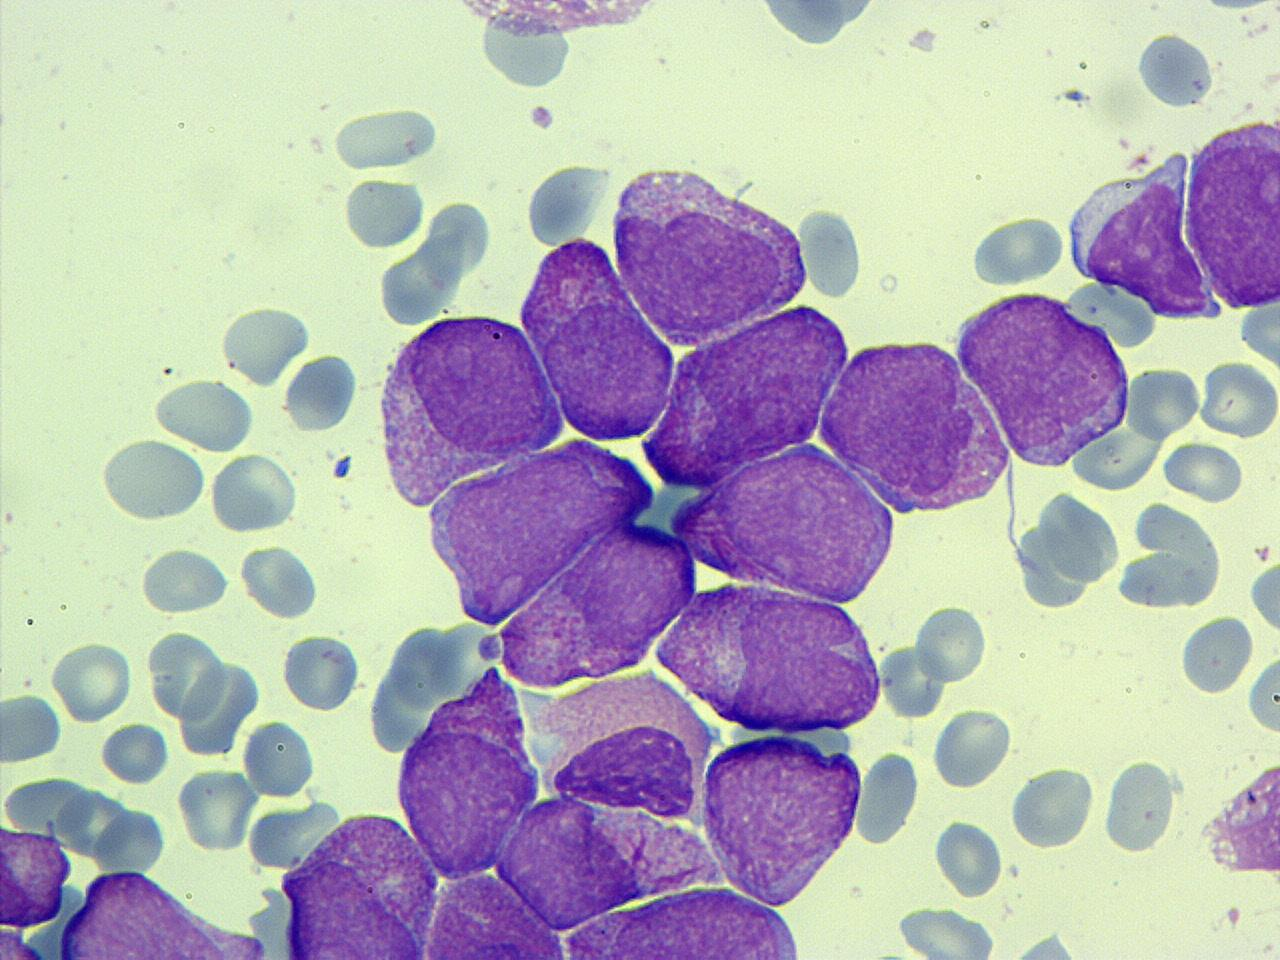Platelets: (798, 202, 868, 302), (526, 103, 558, 132), (331, 452, 355, 480), (1061, 85, 1091, 106)
RBC: (97, 437, 208, 526), (218, 301, 313, 387), (151, 376, 256, 452), (967, 210, 1067, 289), (0, 825, 74, 930), (522, 159, 610, 247), (208, 451, 301, 534), (1008, 763, 1096, 850), (332, 104, 442, 171), (1101, 758, 1175, 856), (178, 762, 256, 854), (852, 746, 922, 848), (280, 630, 365, 714), (930, 704, 1013, 790), (51, 638, 134, 722), (240, 715, 317, 802), (282, 350, 361, 434), (1198, 358, 1278, 440), (1178, 612, 1254, 698), (340, 176, 426, 252), (237, 542, 320, 620), (912, 602, 988, 686), (138, 547, 230, 616), (1124, 362, 1202, 442), (892, 904, 1001, 959), (932, 816, 1004, 899), (1160, 438, 1244, 504), (99, 719, 172, 785), (1, 689, 63, 764), (1249, 541, 1279, 651), (1246, 650, 1280, 738), (0, 929, 49, 960)
WBC: (1063, 128, 1273, 340), (370, 308, 566, 511), (607, 159, 813, 346), (654, 575, 886, 741), (814, 335, 1014, 520), (672, 444, 894, 606), (948, 281, 1134, 472), (388, 655, 542, 883), (696, 726, 866, 910), (532, 667, 711, 824), (272, 809, 442, 959), (433, 0, 690, 92), (54, 868, 271, 960), (1182, 111, 1280, 308), (558, 889, 810, 960), (1009, 488, 1125, 615), (1115, 498, 1225, 612), (1201, 754, 1280, 878), (524, 157, 608, 252), (0, 825, 76, 930), (738, 0, 891, 51), (1102, 756, 1176, 856), (852, 747, 922, 849), (282, 348, 361, 436), (1178, 610, 1254, 698), (1134, 27, 1214, 110)
